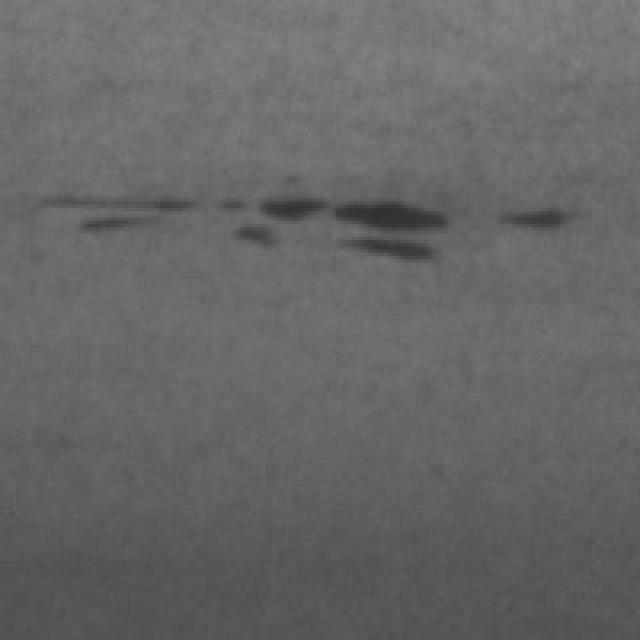inclusion: (26, 176, 467, 262), (480, 192, 582, 237)
